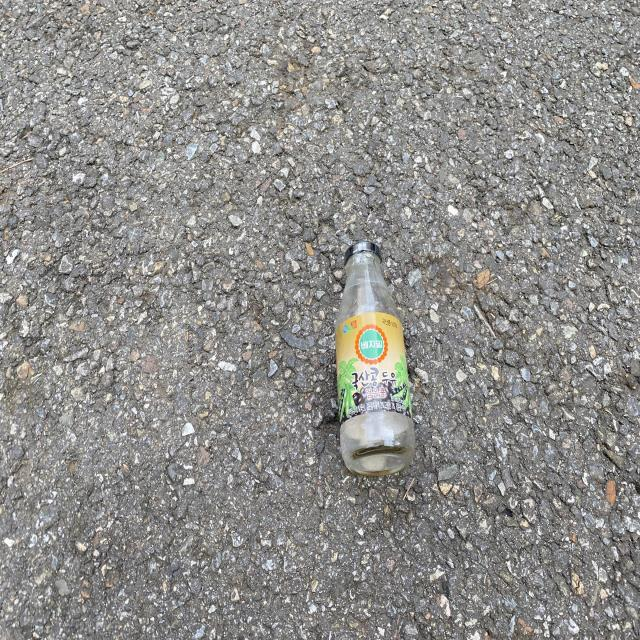glass: (336, 241, 415, 475)
